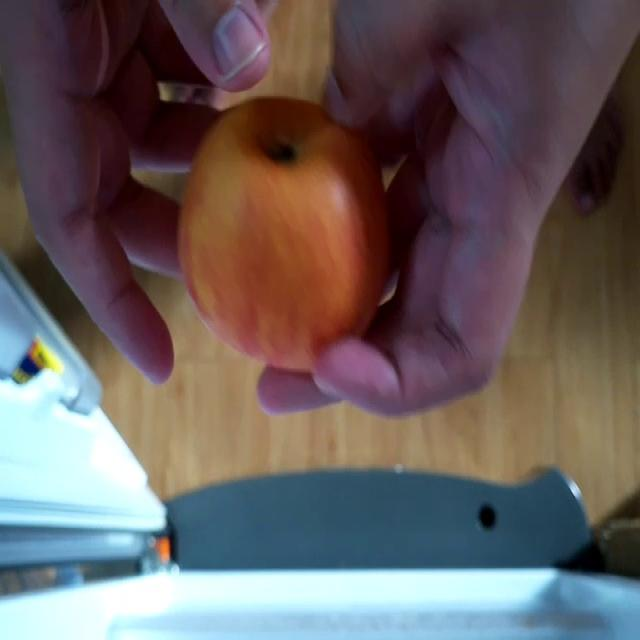apple: (176, 95, 394, 372)
